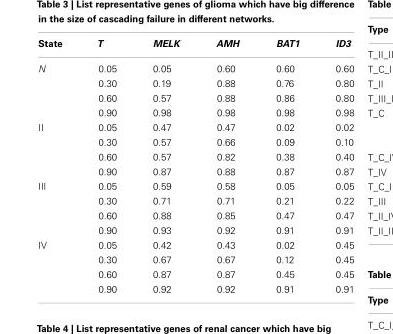table: (37, 37, 353, 294)
table column: (134, 37, 196, 294), (196, 37, 256, 294), (256, 37, 316, 294), (78, 37, 134, 294), (37, 37, 78, 294), (316, 37, 353, 294)
table column header: (37, 37, 353, 55)
table row: (37, 55, 353, 75), (37, 37, 353, 55), (37, 89, 353, 104), (37, 104, 353, 119), (37, 119, 353, 134), (37, 148, 353, 163), (37, 163, 353, 178), (37, 192, 353, 207), (37, 207, 353, 222), (37, 236, 353, 251), (37, 251, 353, 266), (37, 75, 353, 89), (37, 134, 353, 148), (37, 178, 353, 192), (37, 222, 353, 236), (37, 266, 353, 280), (37, 280, 353, 294)
table spanning cell: (37, 55, 78, 119), (37, 119, 78, 178), (37, 178, 78, 236), (37, 236, 78, 294)
